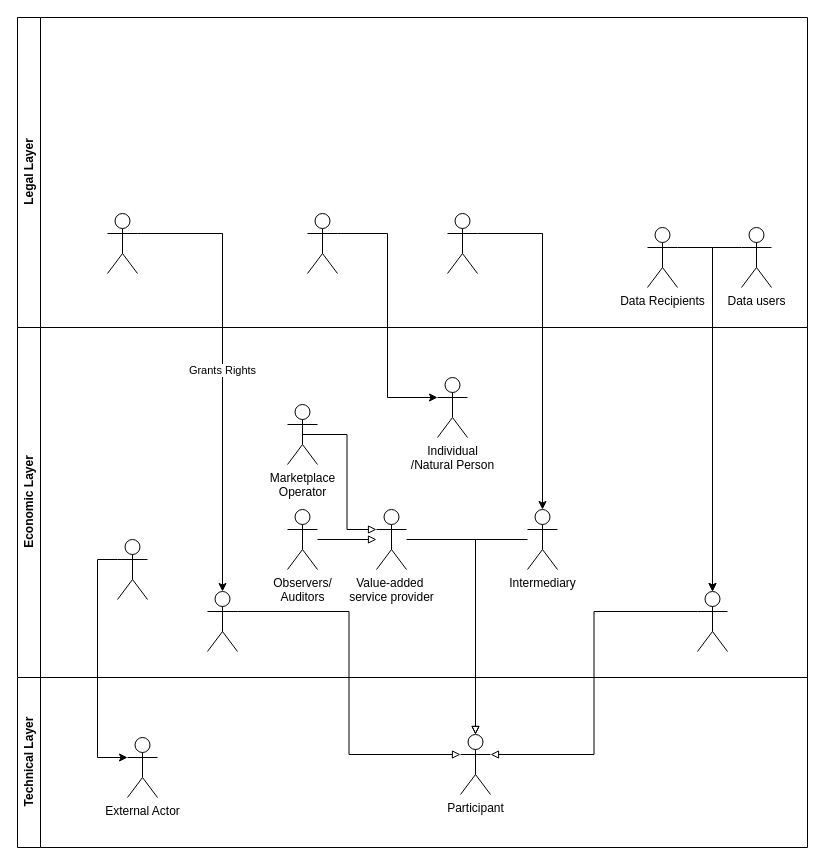
Image size: 825x865. Some labels were removed from this diagram. Here are the shapes that lost their labels. From the top down, the centre of each, then its label:
At [122,243]: "Data Rights Holder".
At [322,243]: "Data Subjects".
At [462,243]: "Data I ntermediation Services".
At [132,569]: "Service Provider".
At [222,621]: "Data Provider".
At [712,621]: "Data Consumer".
